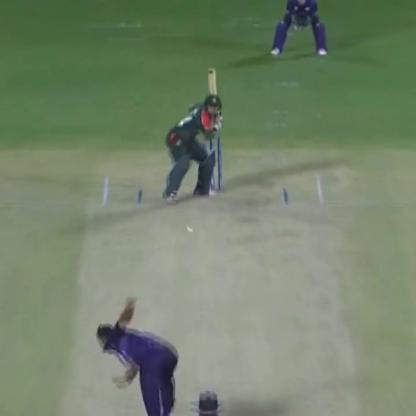ball: (182, 221, 200, 237)
bat: (203, 62, 221, 116)
pitch: (68, 163, 361, 415)
